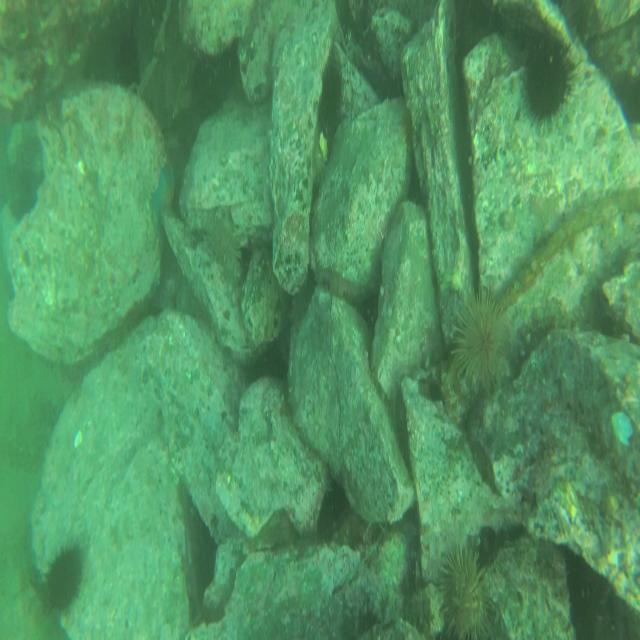echinus: (450, 286, 507, 395), (525, 30, 577, 126), (436, 544, 490, 636), (44, 544, 86, 610)
